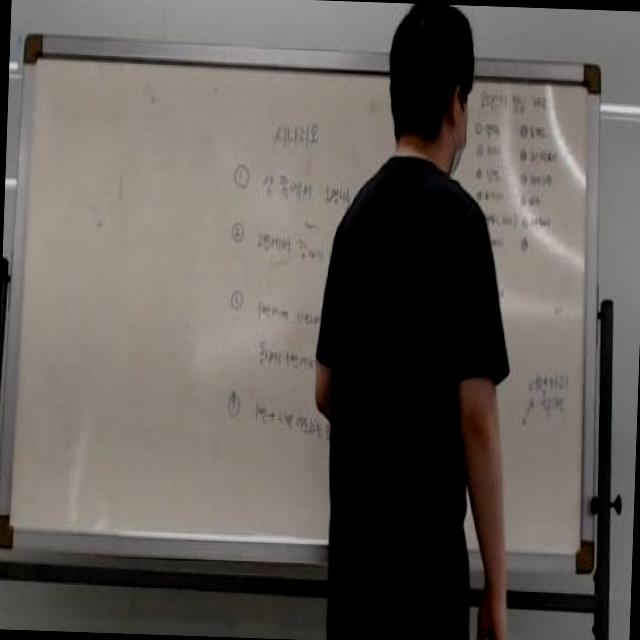Instructor: (336, 8, 500, 631)
White-board: (3, 40, 596, 561)
